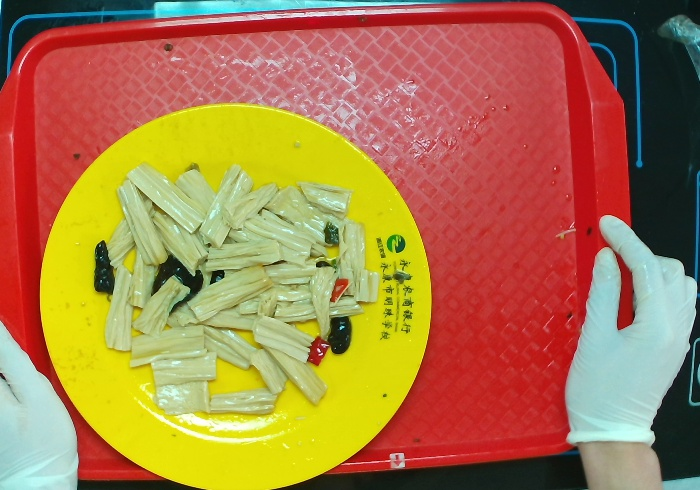YKMZ-Huang_Se_Mian_Pan: (36, 100, 435, 490)
